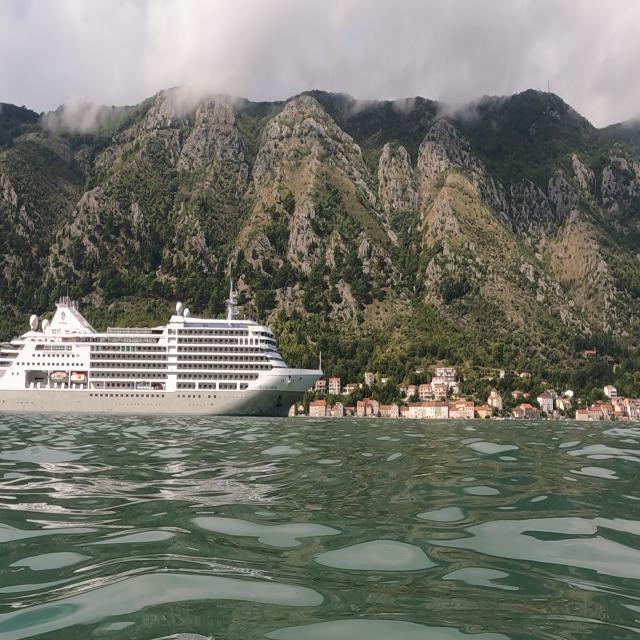boat: (1, 273, 325, 419)
